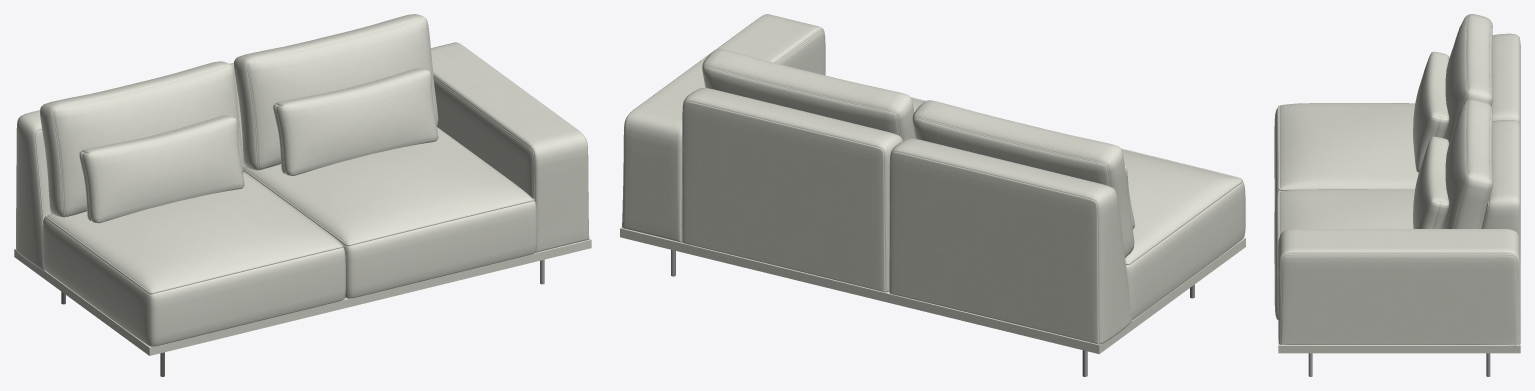
File: __singlearm2_R.glb
The picture shows the model from 3 angles, left to right: view 1: azimuth 30°, elevation 25°; view 2: azimuth 150°, elevation 25°; view 3: azimuth 270°, elevation 25°; orthographic projection. The views are drawn at different scales.
Visible parts, largest first — view 1: group_3, group_7, group_5, group_10, group_1, group_8, group_9, instance_0.001, group_4; view 2: group_4, group_6, group_3, group_5, group_1, group_10, instance_0.001, instance_0.002; view 3: group_5, group_3, group_7, group_10, group_1, group_6, group_9, group_8, group_4, instance_0.001, instance_0.002, instance_0.
Boxes of the visible parts, left/top/right/bottom form: group_3: left=42, top=171, right=345, bottom=346; group_7: left=244, top=127, right=537, bottom=298; group_5: left=431, top=42, right=589, bottom=252; group_10: left=234, top=14, right=438, bottom=170; group_1: left=40, top=61, right=244, bottom=217; group_8: left=273, top=68, right=438, bottom=175; group_9: left=79, top=115, right=244, bottom=223; instance_0.001: left=14, top=240, right=591, bottom=355; group_4: left=16, top=110, right=50, bottom=270; group_4: left=889, top=138, right=1132, bottom=344; group_6: left=682, top=88, right=902, bottom=292; group_3: left=1121, top=148, right=1245, bottom=319; group_5: left=622, top=14, right=825, bottom=242; group_1: left=912, top=100, right=1134, bottom=257; group_10: left=702, top=49, right=915, bottom=140; instance_0.001: left=620, top=228, right=1245, bottom=354; instance_0.002: left=620, top=227, right=1245, bottom=345; group_5: left=1278, top=229, right=1520, bottom=345; group_3: left=1274, top=103, right=1418, bottom=203; group_7: left=1274, top=189, right=1414, bottom=319; group_10: left=1442, top=99, right=1492, bottom=228; group_1: left=1444, top=14, right=1492, bottom=142; group_6: left=1481, top=120, right=1520, bottom=243; group_9: left=1413, top=51, right=1449, bottom=172; group_8: left=1413, top=136, right=1449, bottom=228; group_4: left=1491, top=33, right=1520, bottom=130; instance_0.001: left=1278, top=346, right=1520, bottom=353; instance_0.002: left=1278, top=339, right=1520, bottom=345; instance_0: left=1280, top=345, right=1506, bottom=345.
Size of the model in its own units: 1.71 by 0.7699 by 0.9152.
Materials: 5 (4 with a texture image).
